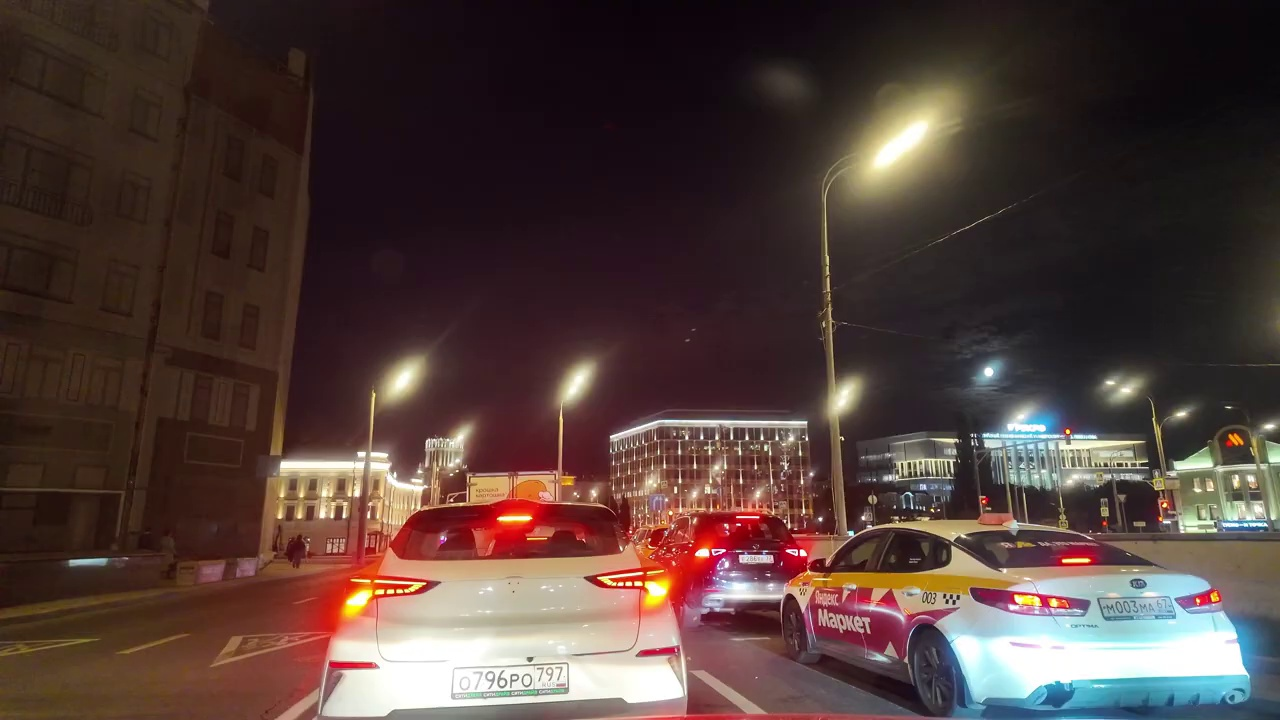acesa: (857, 104, 944, 186), (374, 353, 428, 411), (553, 359, 599, 412), (826, 378, 865, 428), (1105, 371, 1143, 407)
